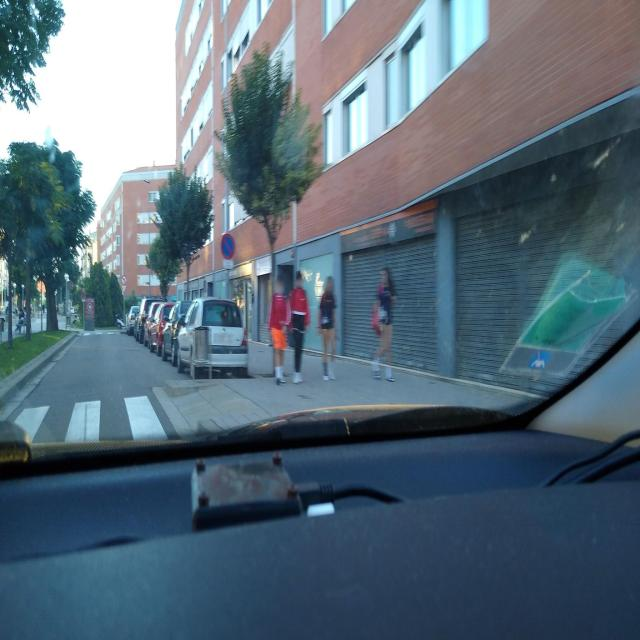forb_stopping: (221, 234, 235, 260)
